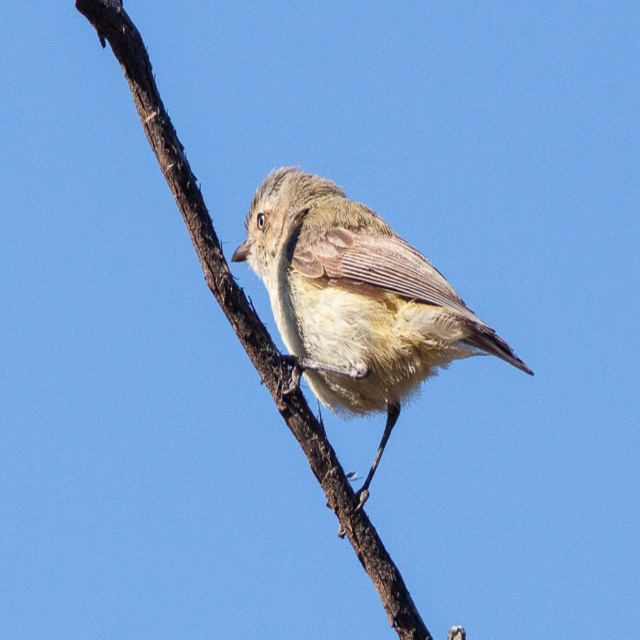Sparrow: (229, 162, 533, 512)
